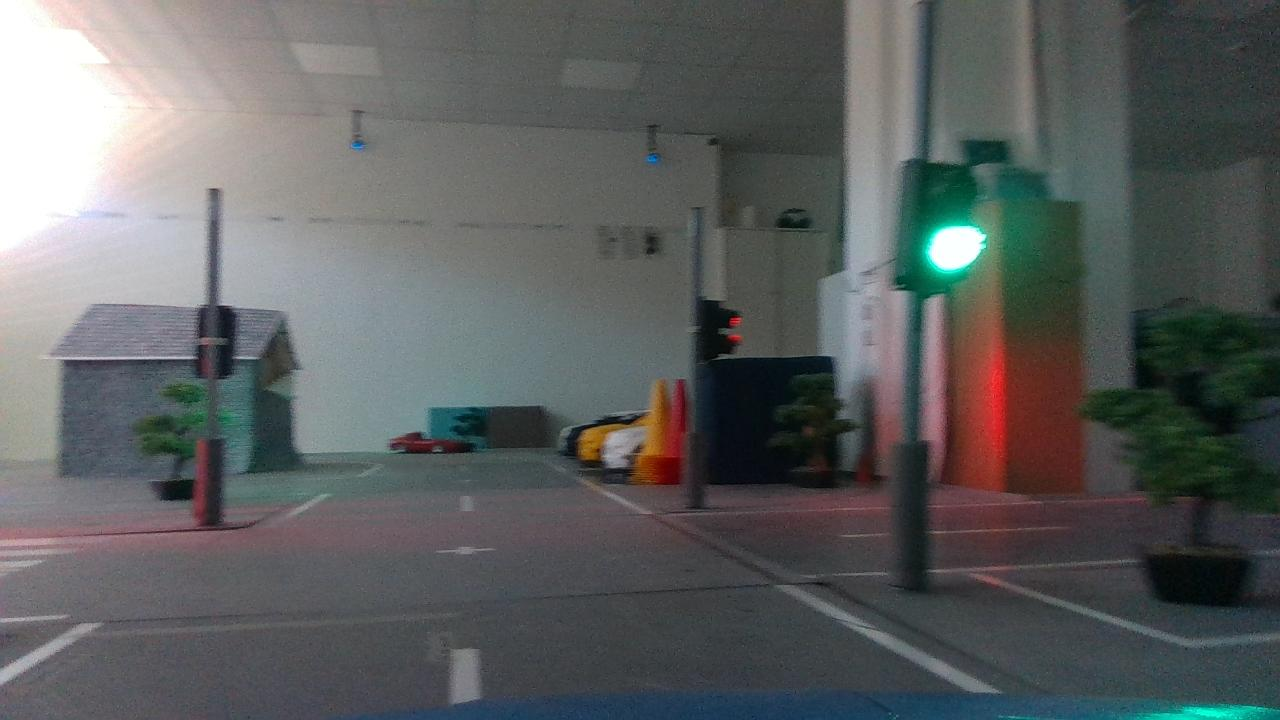traffic_light_green: (884, 149, 992, 297)
